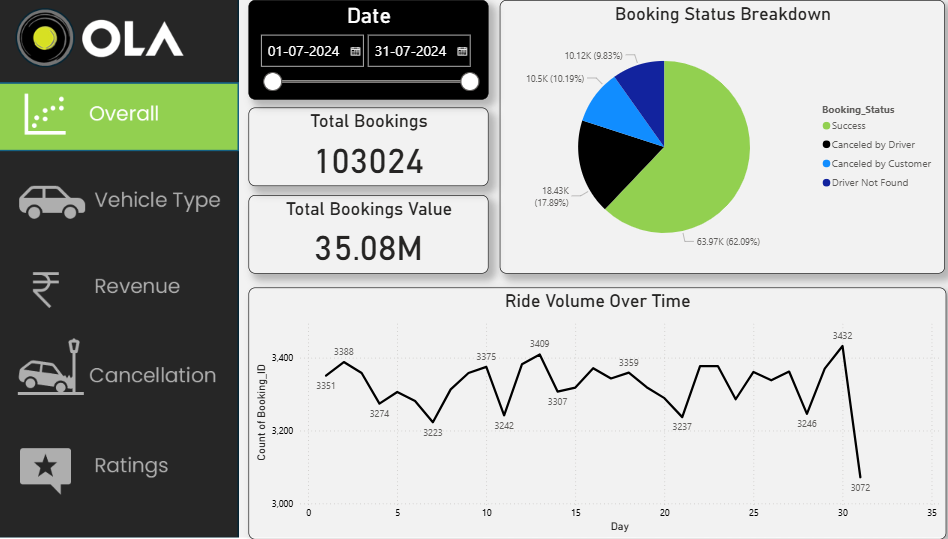

The page's visual inventory and layout, read from the dashboard file:
{"tool":"powerbi","page":{"name":"Overall","canvas":[1280,720],"ordinal":0},"visuals":[{"type":"actionButton","box":[0,222.5,325,90],"z":0},{"type":"actionButton","box":[0,338.8,325,90],"z":1000},{"type":"actionButton","box":[0,450,325,90],"z":2000},{"type":"actionButton","box":[0,580,325,90],"z":3000},{"type":"lineChart","title":"Ride Volume Over Time","fields":{"Category":["July.Date.Variation.Date Hierarchy.Day"],"Y":["CountNonNull(July.Booking_ID)"]},"box":[336,384,930,336],"z":4000},{"type":"pieChart","title":"Booking Status Breakdown","fields":{"Y":["CountNonNull(July.Booking_Status)"],"Category":["July.Booking_Status"]},"box":[671.2,0,593.8,365],"z":5000},{"type":"slicer","title":"Date","fields":{"Values":["July.Date"]},"box":[336.2,0,320,132.5],"z":6000},{"type":"card","title":"Total Bookings","fields":{"Values":["July.Total Bookings"]},"box":[336.2,143.8,320,105],"z":7000},{"type":"card","title":"Total Bookings Value","fields":{"Values":["July.Total Booking Value"]},"box":[336.2,260,320,105],"z":8000}]}

Visuals, with their boxes in screenshot pixels (x1, y1, x2, y2), scaled from the page's 1280x720 canvas onto the 948x539 screenshot:
actionButton: locate(0, 167, 241, 234)
actionButton: locate(0, 254, 241, 321)
actionButton: locate(0, 337, 241, 404)
actionButton: locate(0, 434, 241, 502)
"Ride Volume Over Time" lineChart: locate(249, 287, 938, 538)
"Booking Status Breakdown" pieChart: locate(497, 0, 937, 273)
"Date" slicer: locate(249, 0, 486, 99)
"Total Bookings" card: locate(249, 108, 486, 186)
"Total Bookings Value" card: locate(249, 195, 486, 273)
